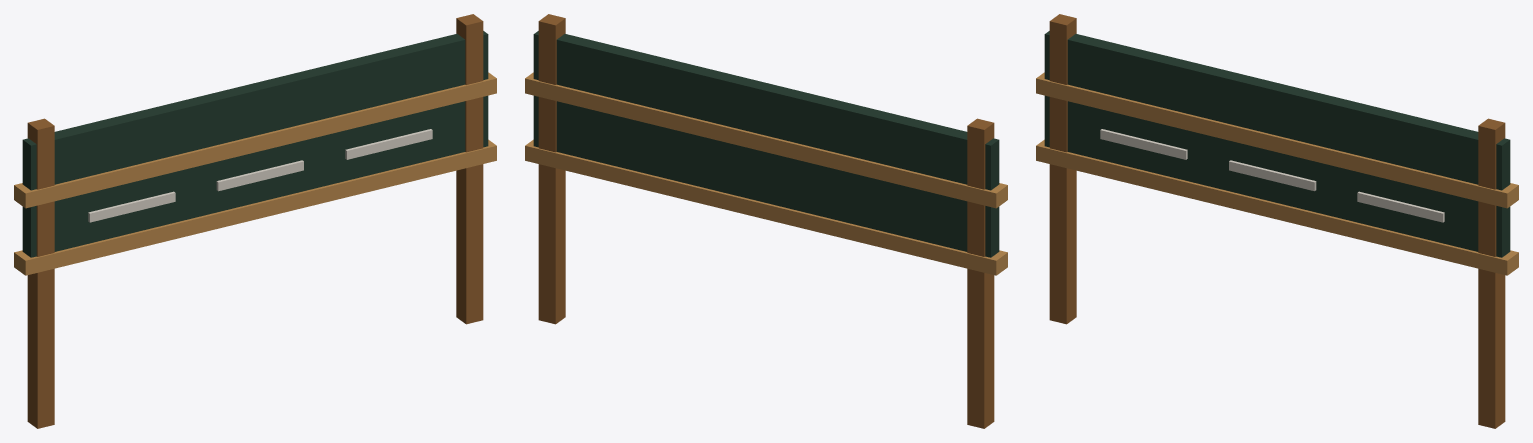
The model's file is mabel_stall.glb.
The picture shows the model from 3 angles, left to right: view 1: azimuth 30°, elevation 25°; view 2: azimuth 150°, elevation 25°; view 3: azimuth 330°, elevation 25°; orthographic projection.
Parts seen in each view (by area): view 1: decor-mabel_stall; view 2: decor-mabel_stall; view 3: decor-mabel_stall.
Boxes of the visible parts, x1=… form: decor-mabel_stall: x1=14, y1=14, x2=496, y2=428; decor-mabel_stall: x1=525, y1=14, x2=1007, y2=428; decor-mabel_stall: x1=1036, y1=14, x2=1518, y2=428.
Bounding box in the file's own units: 3.3 × 2 × 0.1398.
